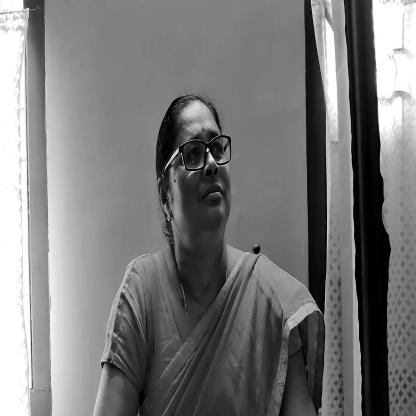Distracted: (158, 102, 243, 248)
